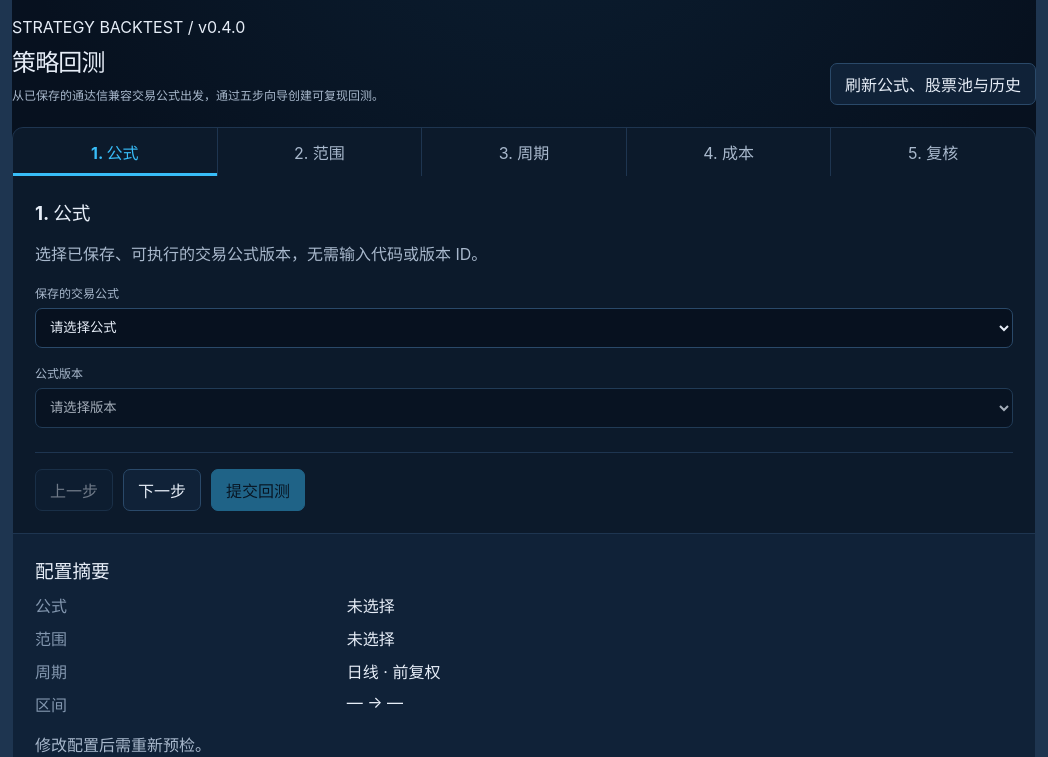
keeps the wizard usable in empty and history-error states
Expected: the heading "1. 公式" is shown, [35,202,91,225]
Click the button "刷新公式、股票池与历史": point(933, 84) [830,63,1036,105]
(page scrolled)
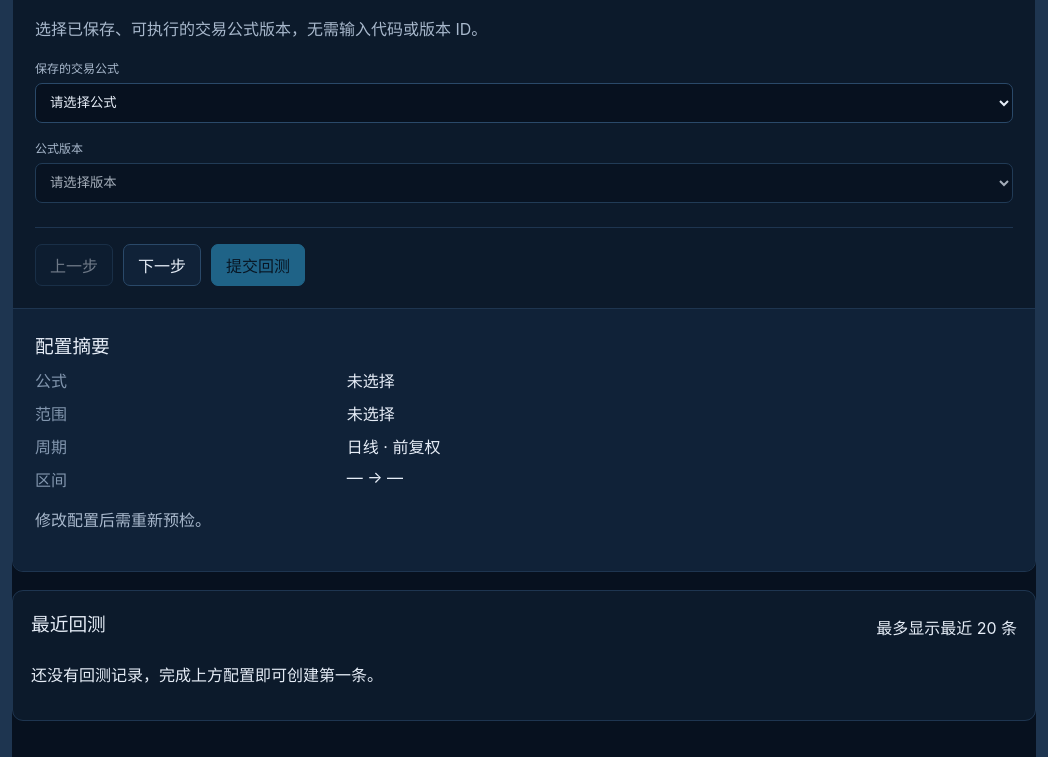
Expected: the text "还没有回测记录，完成上方配置即可创建第一条。" is shown, [31,665,383,685]
